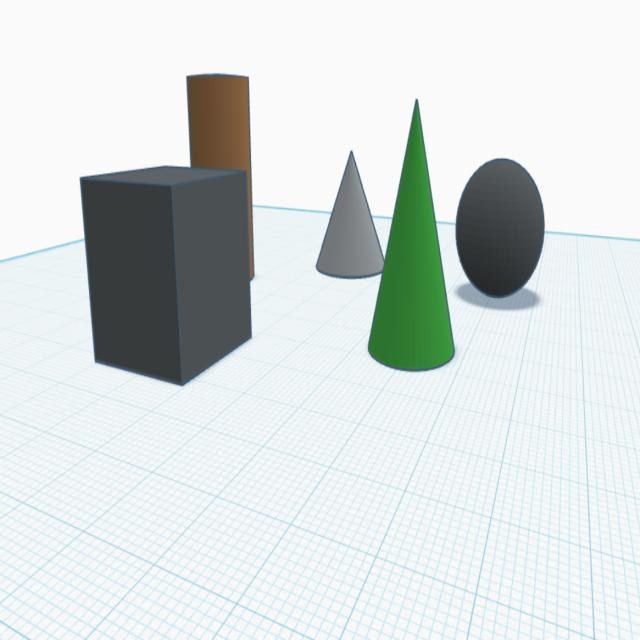cone: (366, 93, 456, 380), (313, 145, 390, 283)
cube: (76, 159, 256, 391)
sphere: (452, 155, 548, 304)
